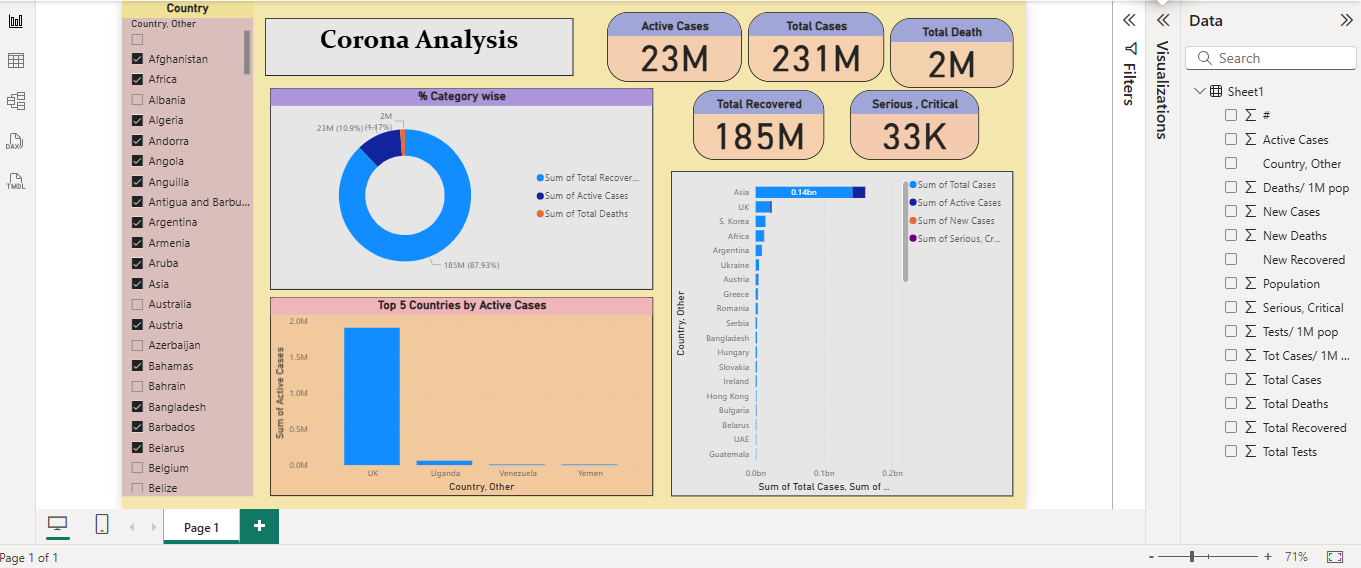

The page's visual inventory and layout, read from the dashboard file:
{"tool":"powerbi","page":{"name":"Page 1","canvas":[1280,720],"ordinal":0},"visuals":[{"type":"slicer","title":"Country","fields":{"Values":["Sheet1.Country, Other"]},"box":[0,0,186.5,702.2],"z":0},{"type":"donutChart","title":"% Category wise","fields":{"Y":["Sum(Sheet1.Total Recovered)","Sum(Sheet1.Active Cases)","Sum(Sheet1.Total Deaths)"]},"box":[210,122.6,542.6,285.6],"z":1000},{"type":"barChart","fields":{"Category":["Sheet1.Country, Other"],"Y":["Sum(Sheet1.Total Cases)","Sum(Sheet1.Active Cases)","Sum(Sheet1.New Cases)","Sum(Sheet1.Serious, Critical)"]},"box":[778.1,240.9,484.7,460.6],"z":2000},{"type":"clusteredColumnChart","title":"Top 5 Countries by Active Cases","fields":{"Category":["Sheet1.Country, Other"],"Y":["Sum(Sheet1.Active Cases)"]},"box":[210,419.9,542.6,282.2],"z":3000},{"type":"card","title":"Total Cases","fields":{"Values":["Sum(Sheet1.Total Cases)"]},"box":[886.9,15.1,193.2,99.1],"z":4000},{"type":"card","title":"Active Cases","fields":{"Values":["Sum(Sheet1.Active Cases)"]},"box":[687,15.1,191.5,99.1],"z":5000},{"type":"card","title":"Total Death","fields":{"Values":["Sum(Sheet1.Total Deaths)"]},"box":[1088.5,23.5,174.7,99.1],"z":6000},{"type":"card","title":"Serious , Critical","fields":{"Values":["Sum(Sheet1.Serious, Critical)"]},"box":[1031.4,126,183.1,99.1],"z":7000},{"type":"card","title":"Total Recovered","fields":{"Values":["Sum(Sheet1.Total Recovered)"]},"box":[809.7,126,186.5,99.1],"z":8000},{"type":"textbox","box":[203.3,23.5,436.7,82.3],"z":9000}]}

Visuals, with their boxes on the page's 1280x720 design canvas (x1, y1, x2, y2). These are canvas units, not pixel positions in the 1361x568 screenshot, which may show the page scaled, cropped or inside an application window:
"Country" slicer: <bbox>0, 0, 186, 702</bbox>
"% Category wise" donutChart: <bbox>210, 123, 753, 408</bbox>
barChart - Sheet1.Country, Other x Sum(Sheet1.Total Cases): <bbox>778, 241, 1263, 702</bbox>
"Top 5 Countries by Active Cases" clusteredColumnChart: <bbox>210, 420, 753, 702</bbox>
"Total Cases" card: <bbox>887, 15, 1080, 114</bbox>
"Active Cases" card: <bbox>687, 15, 878, 114</bbox>
"Total Death" card: <bbox>1088, 24, 1263, 123</bbox>
"Serious , Critical" card: <bbox>1031, 126, 1214, 225</bbox>
"Total Recovered" card: <bbox>810, 126, 996, 225</bbox>
textbox: <bbox>203, 24, 640, 106</bbox>
